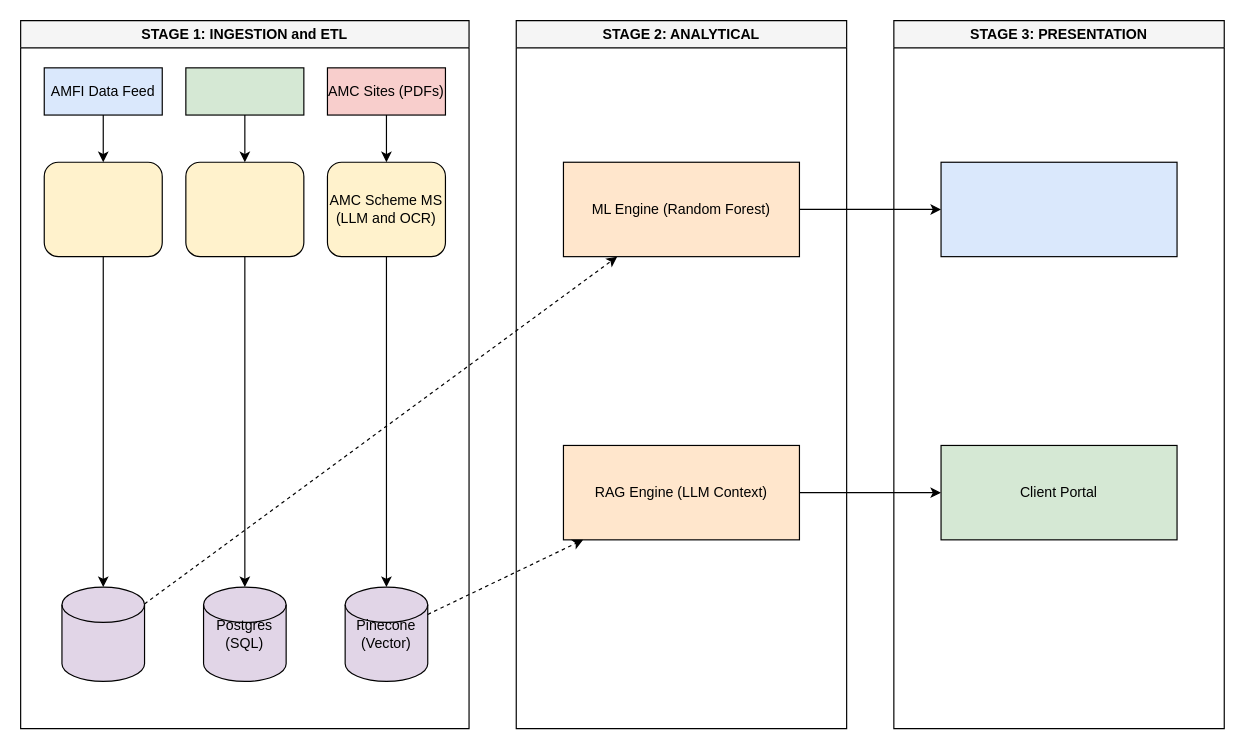
Image size: 1245x749. Some labels were removed from this diagram. The shapes that lost their labels are listed below. From the top down, each one's centre as x and y in pixels, then its label:
At pixel 244 91: "MFCentral Gateway".
At pixel 102 209: "AMFI NAV MS (Scraper) Protocol: HTTP/JSON".
At pixel 244 209: "Portfolio Sync MS (Auth: JWT)".
At pixel 1058 209: "Advisor Dashboard".
At pixel 103 633: "MongoDB (NoSQL)".
